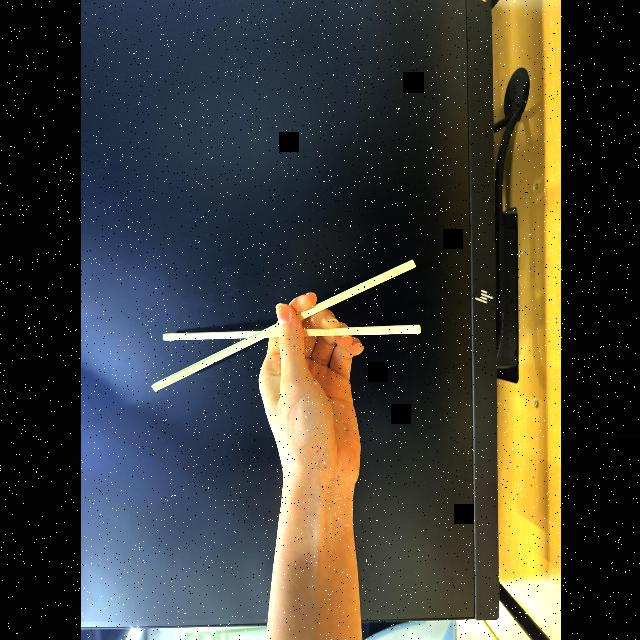stick: (152, 257, 418, 405)
